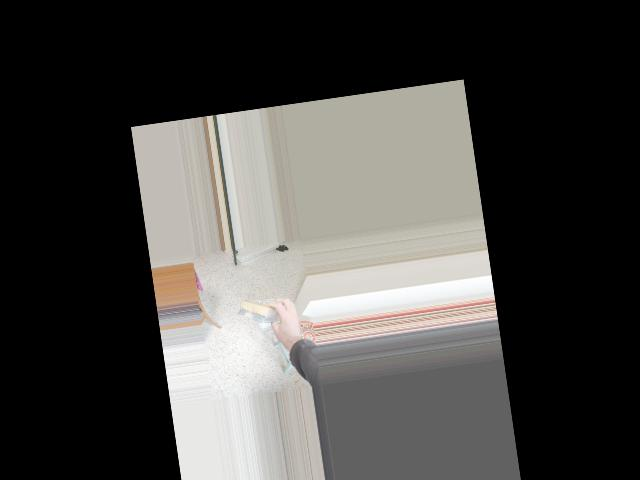cheese: (233, 293, 298, 329)
